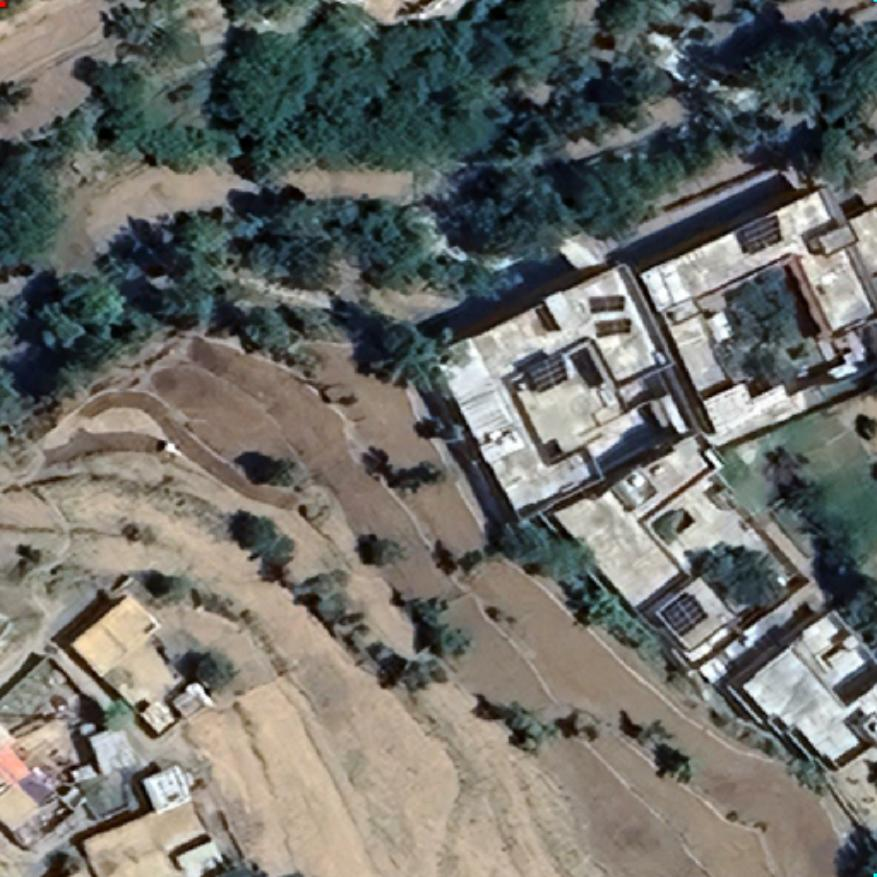Solarpanel: (660, 590, 708, 638), (738, 213, 782, 252), (527, 354, 569, 394), (594, 317, 632, 336), (588, 294, 626, 312)
